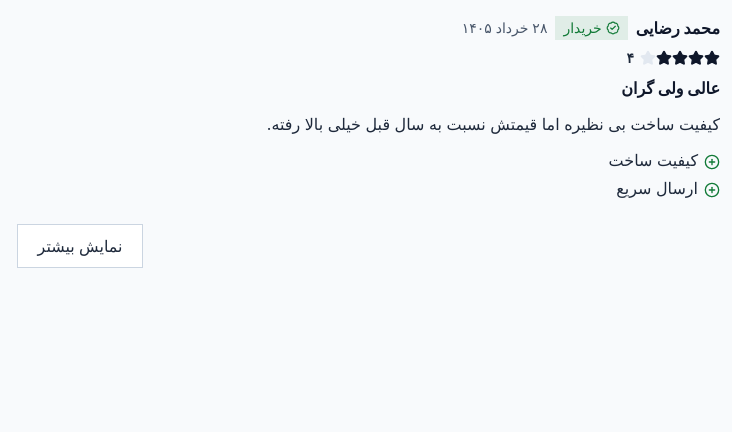
CommentList › forgets the focus it owed when the next page adds nothing
Click the button "نمایش بیشتر".
click(80, 246)  # box [16, 224, 143, 268]
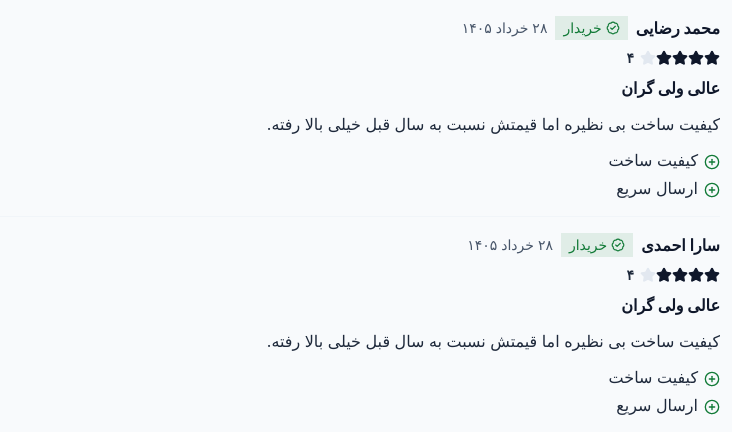
Expected: the button "نمایش بیشتر" is gone
Expected: the text "سارا احمدی" is shown, [641, 233, 720, 257]
